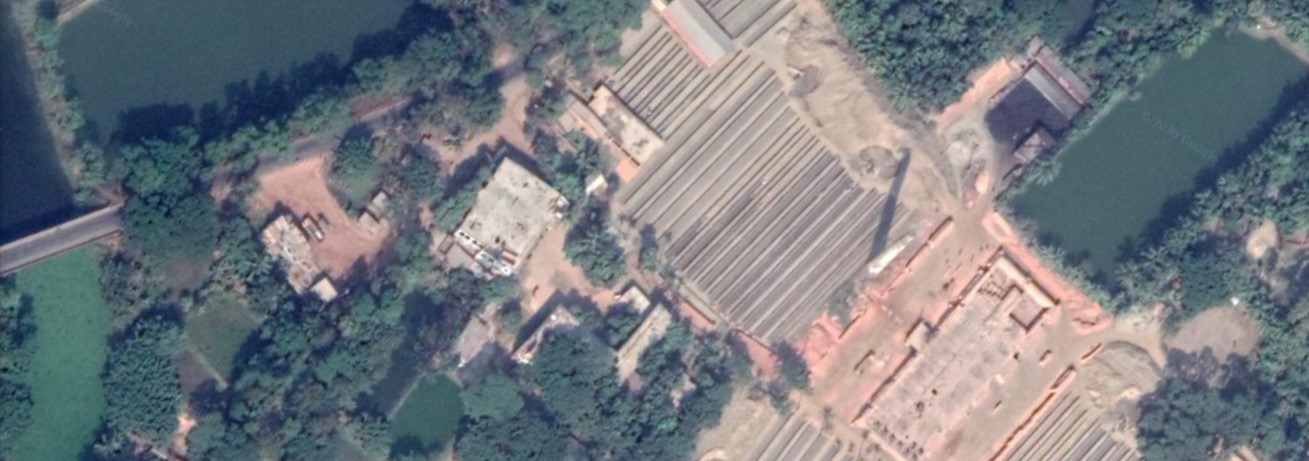kiln: (820, 205, 1053, 422)
